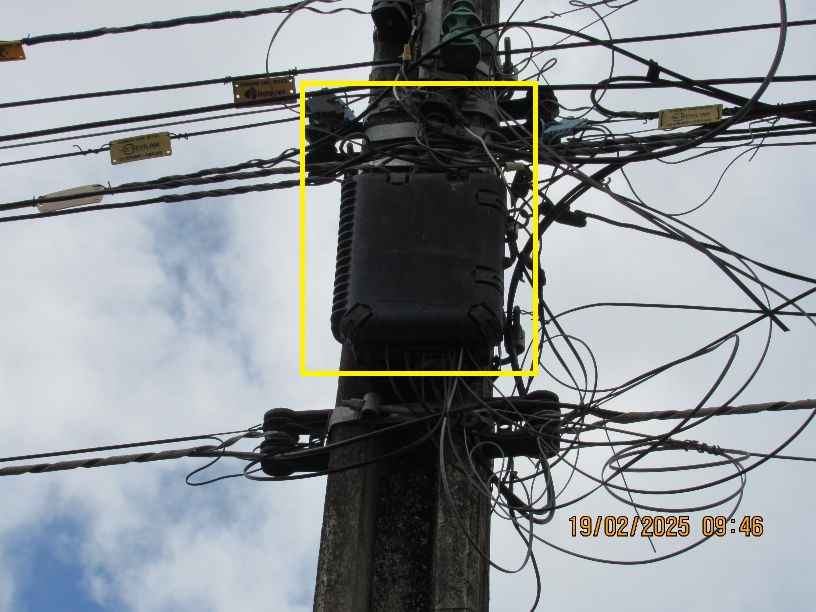caixa_derivacao: (322, 152, 508, 355)
drop: (528, 98, 610, 163), (530, 183, 594, 235)
fibra_optica: (467, 384, 633, 469), (178, 405, 323, 488), (658, 95, 738, 145), (227, 69, 301, 117), (93, 129, 190, 163), (22, 181, 119, 214), (0, 35, 41, 64)
